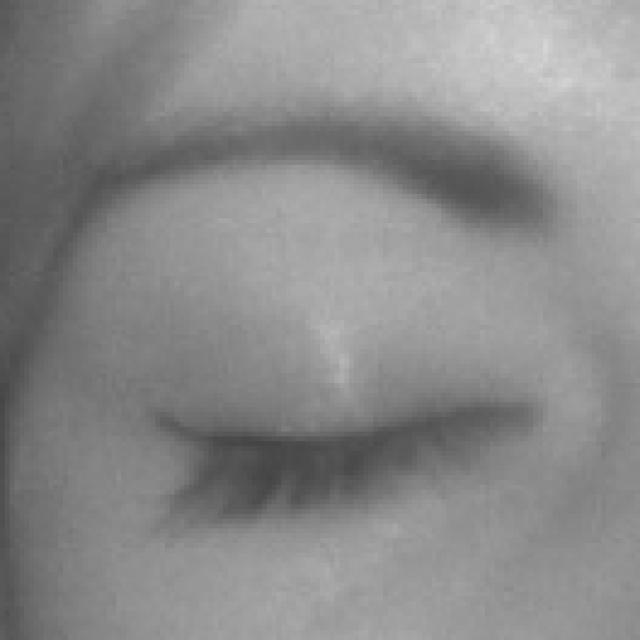Eyeclosed: (151, 272, 548, 603)
